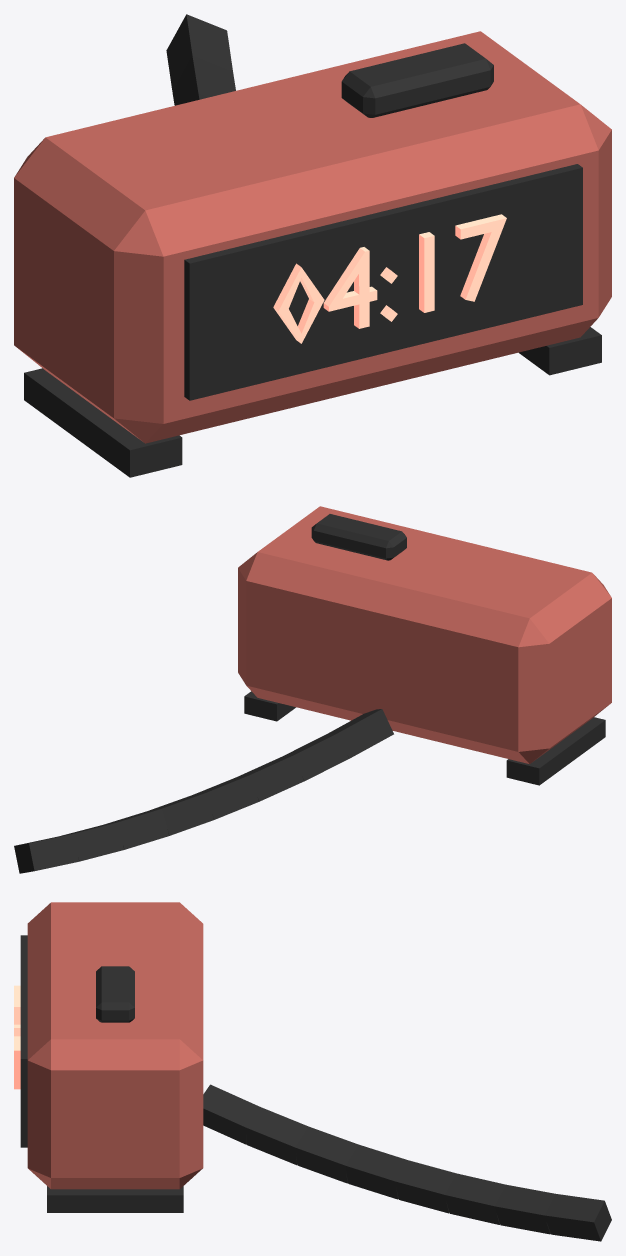
File: alarm_clock_digital.glb
3 renders of one model, top to bottom at view 1: azimuth 30°, elevation 25°; view 2: azimuth 150°, elevation 25°; view 3: azimuth 270°, elevation 25°, orthographic. The views are drawn at different scales.
Parts seen in each view (by area): view 1: alarm_clock_digital; view 2: alarm_clock_digital; view 3: alarm_clock_digital.
Part boxes in pixels (x1,y1,x2,y2): alarm_clock_digital: (14,14,611,477); alarm_clock_digital: (14,506,611,873); alarm_clock_digital: (14,902,611,1241).
Bounding box in the file's own units: 0.2039 × 0.1185 × 0.3066.
